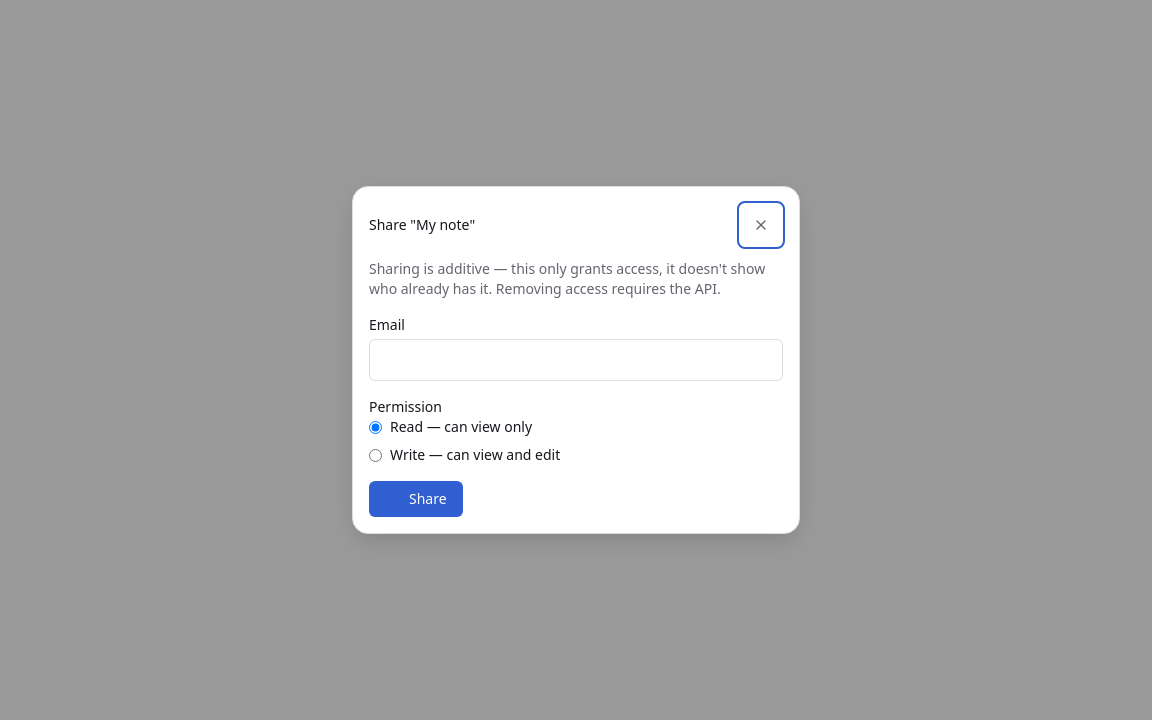
it: 400 notes.cannot_share_with_self maps to the email field
Type "me@example.com" into the field labelled "Email".
click(576, 360); type("me@example.com")  # box x1=369 y1=339 x2=783 y2=381
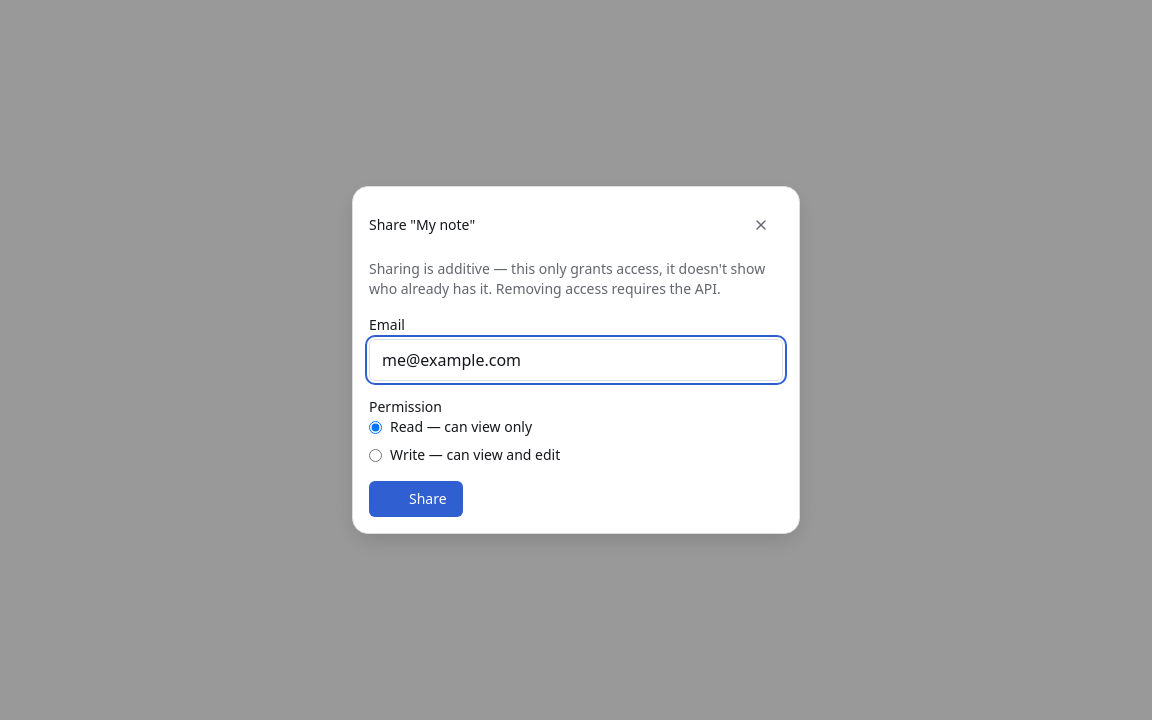
Click the button "Share".
click(416, 499)  # box x1=369 y1=481 x2=463 y2=517
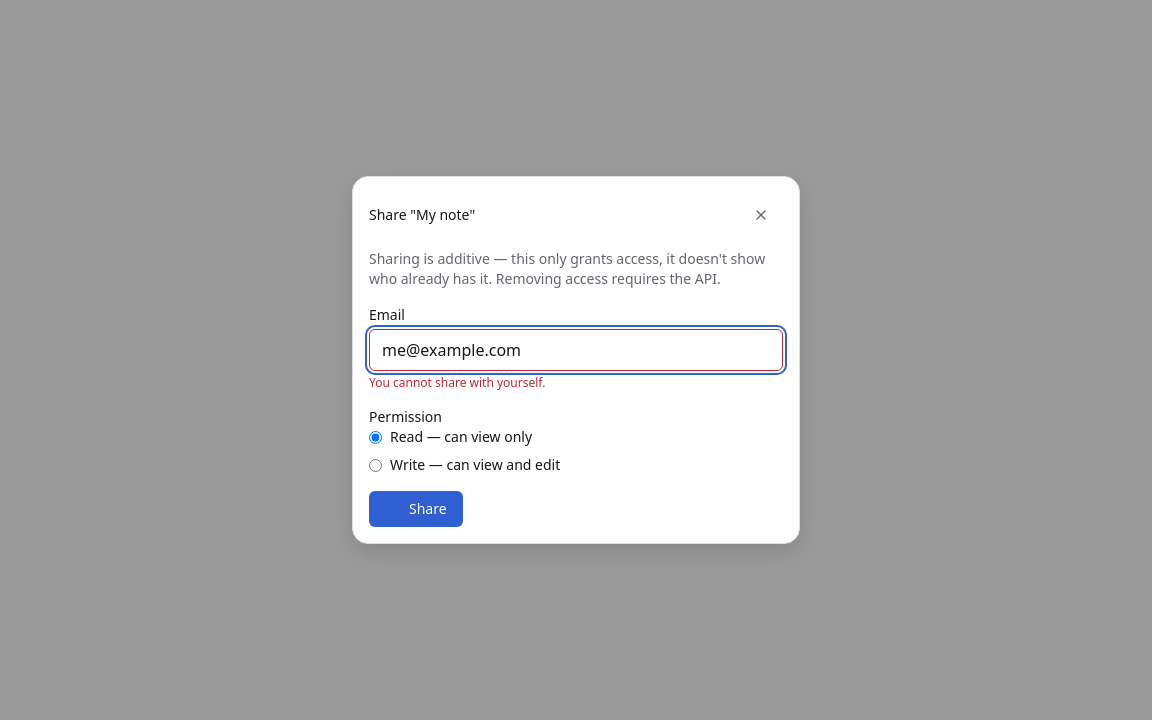
Now the text "You cannot share with yourself." is shown, box x1=369 y1=374 x2=545 y2=391
